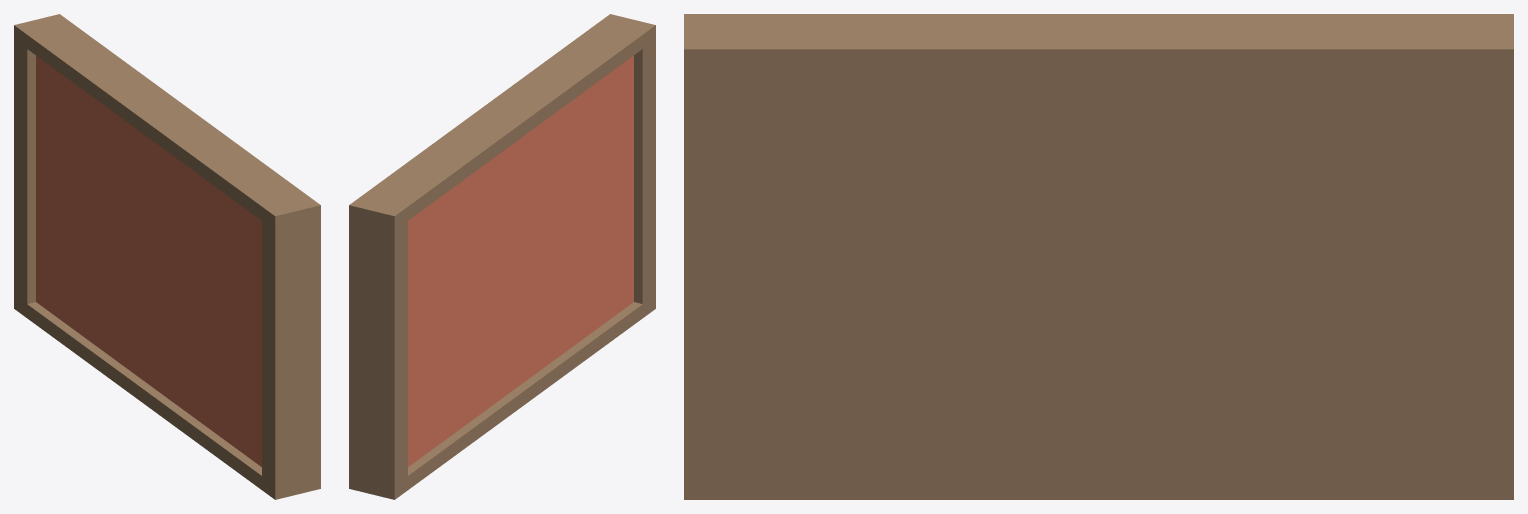
3 views of the same model, side by side, from view 1: azimuth 30°, elevation 25°; view 2: azimuth 150°, elevation 25°; view 3: azimuth 270°, elevation 25° (orthographic). The views are drawn at different scales.
Visible parts, largest first — view 1: Cube.017; view 2: Cube.017; view 3: Cube.017.
Boxes of the visible parts, x1,y1,x2,y2 form: Cube.017: (14, 14, 320, 499); Cube.017: (349, 14, 655, 499); Cube.017: (684, 14, 1513, 499).
Bounding box in the file's own units: 0.3002 × 1.78 × 2.97.
